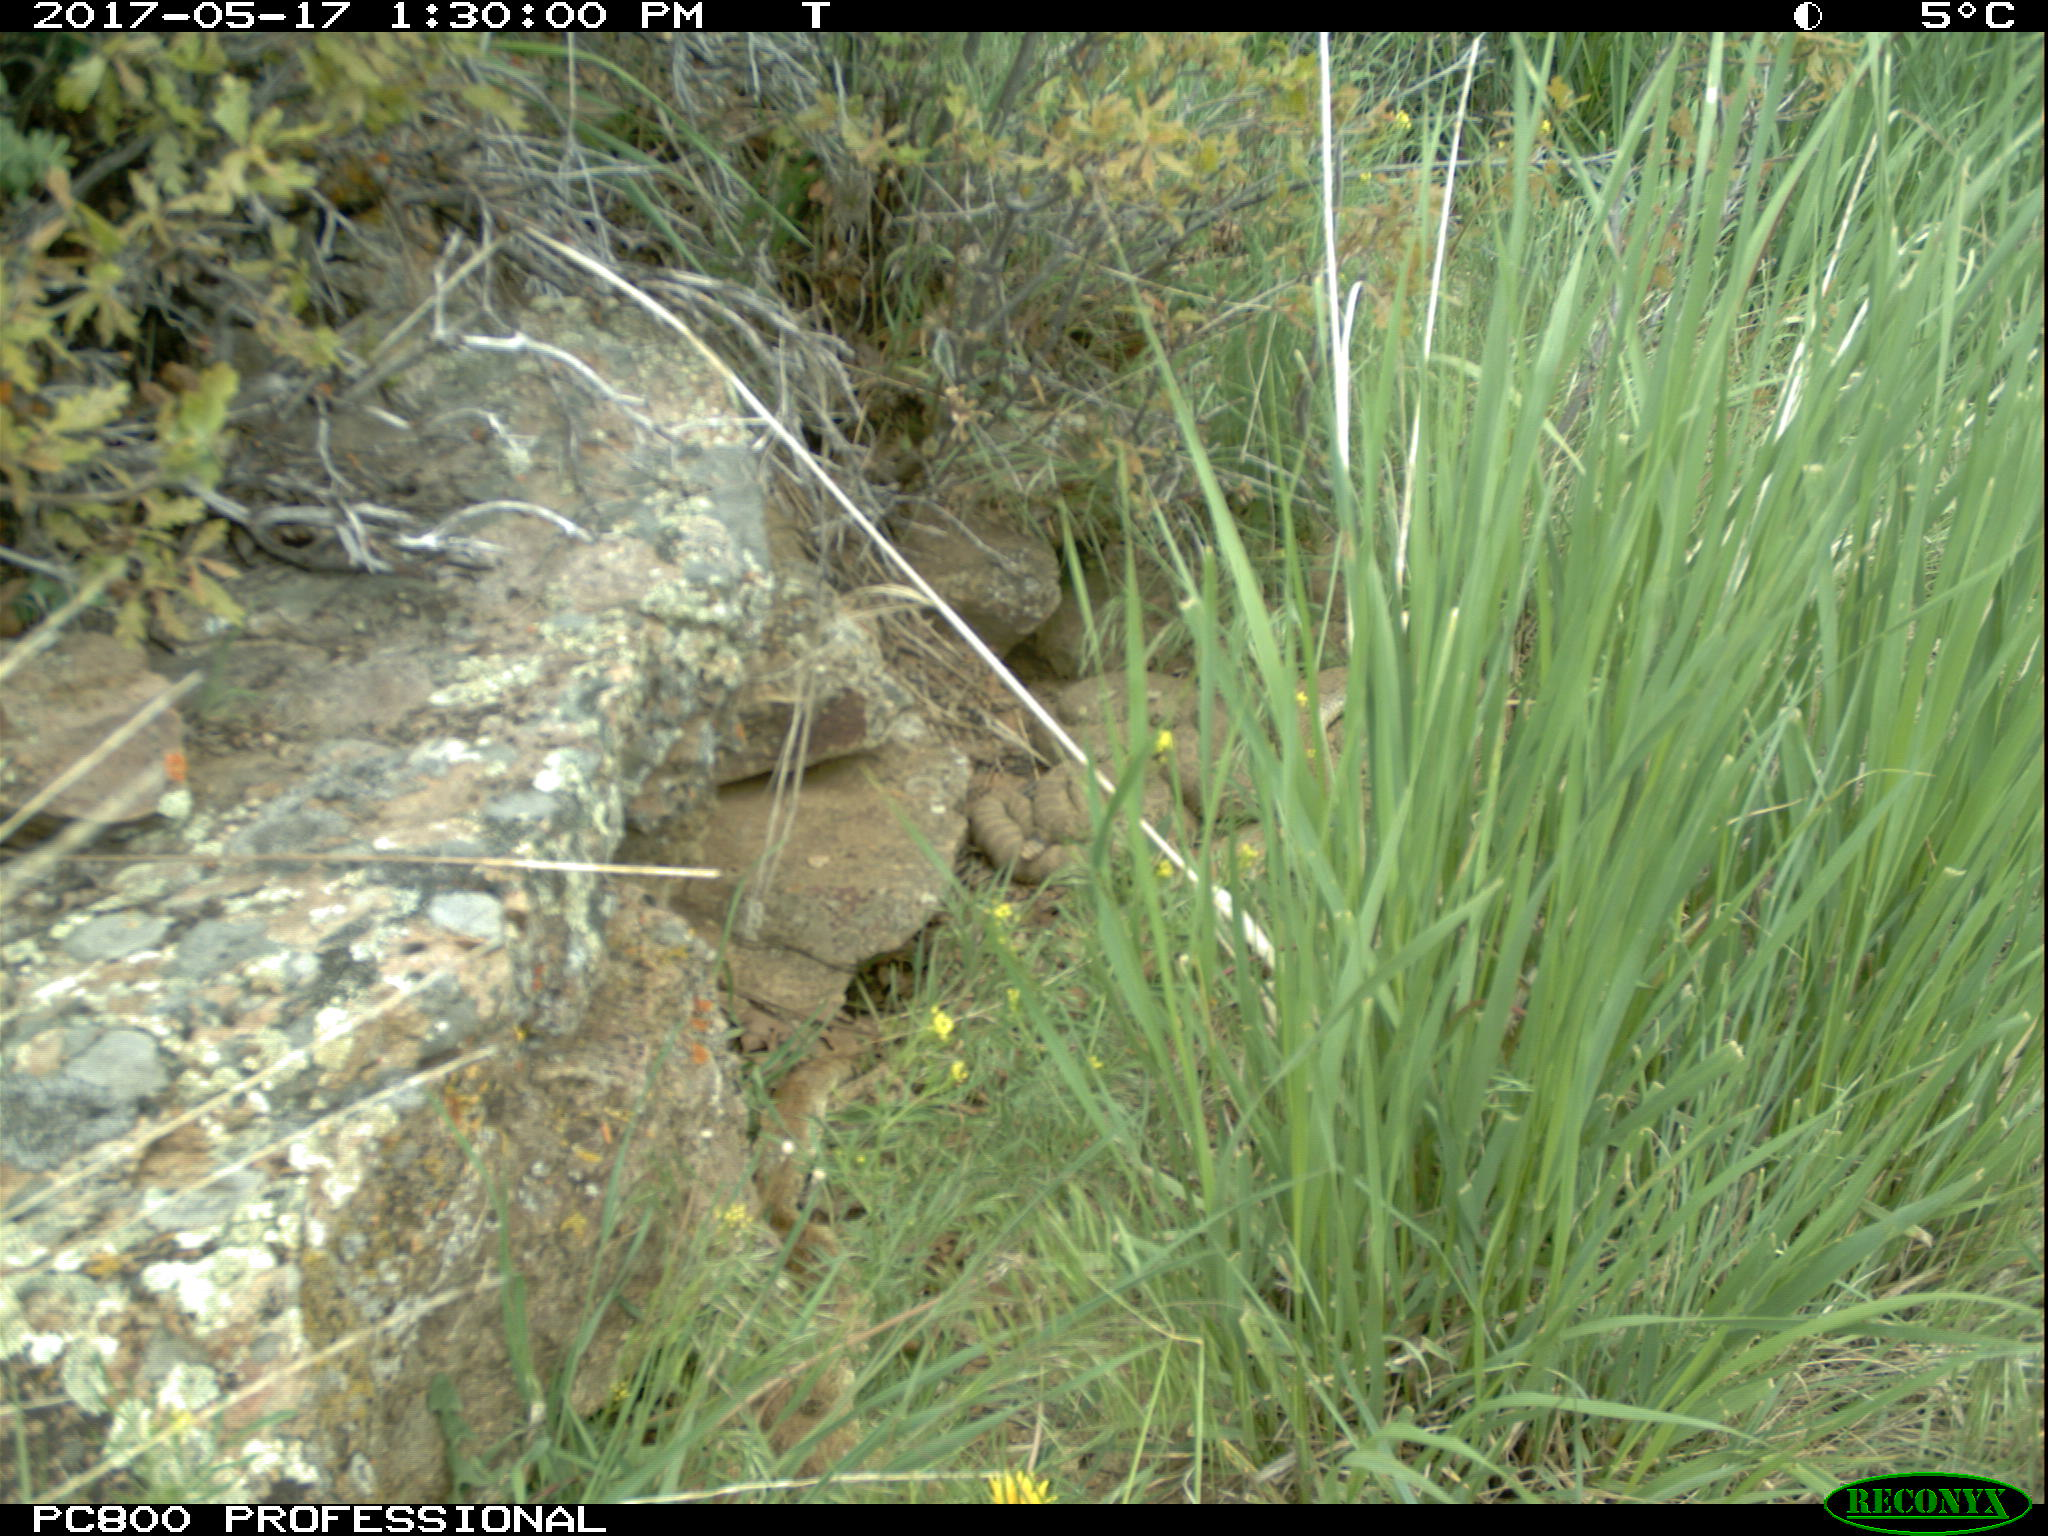snake: (753, 1052, 866, 1460), (968, 757, 1177, 892), (1026, 673, 1230, 773)
